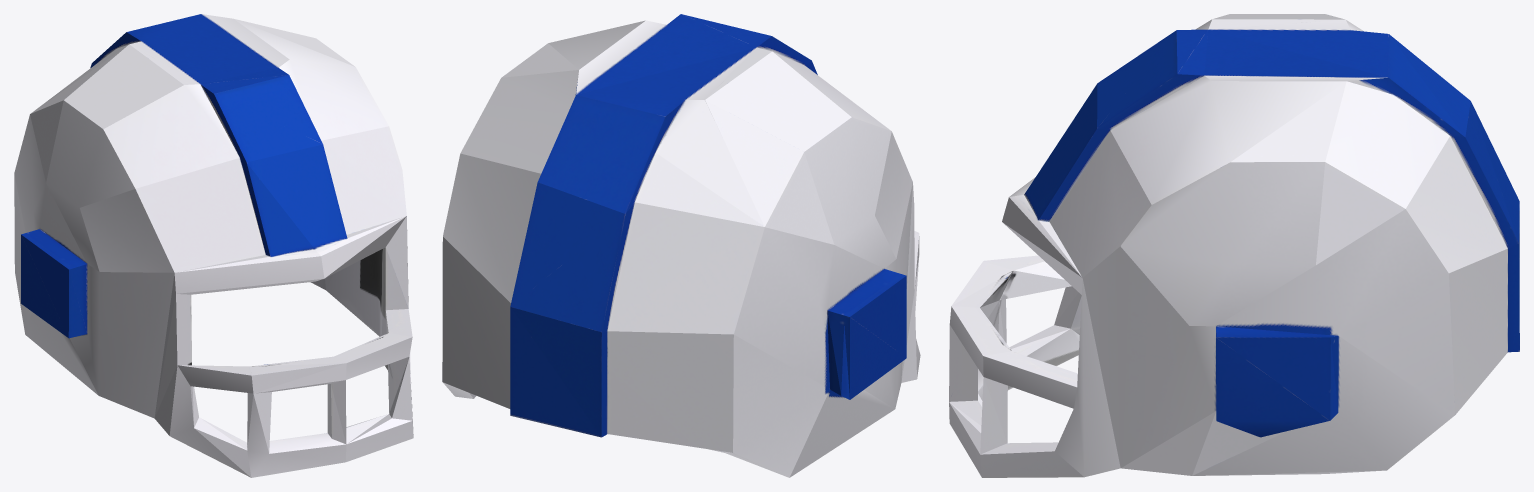
File: helmet.glb
3 views of the same model, side by side, from view 1: azimuth 30°, elevation 25°; view 2: azimuth 150°, elevation 25°; view 3: azimuth 270°, elevation 25° (orthographic). The views are drawn at different scales.
Visible parts, largest first — view 1: output_unwrapped; view 2: output_unwrapped; view 3: output_unwrapped.
Part boxes in pixels (left/top/right/bottom): output_unwrapped: left=14, top=14, right=413, bottom=477; output_unwrapped: left=442, top=14, right=920, bottom=477; output_unwrapped: left=949, top=14, right=1519, bottom=477.
Size of the model in its own units: 1.54 by 1.4 by 1.9.
Materials: 1 (1 with a texture image).
